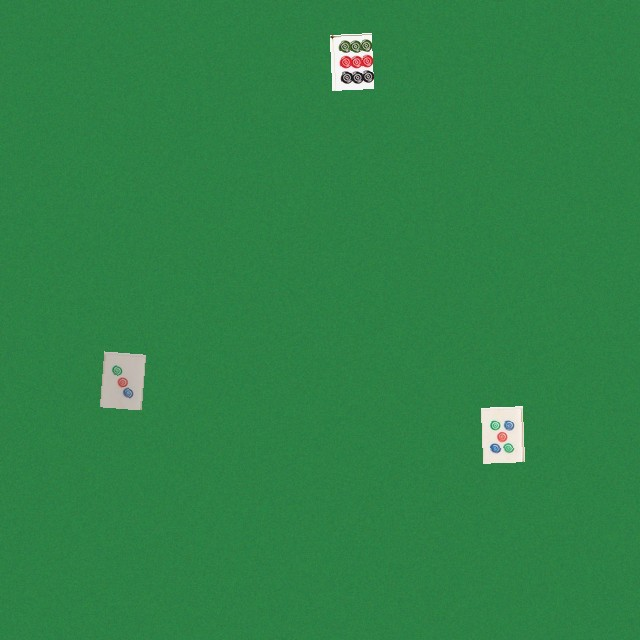tile: (480, 406, 522, 462), (99, 351, 141, 407), (329, 33, 371, 89)
